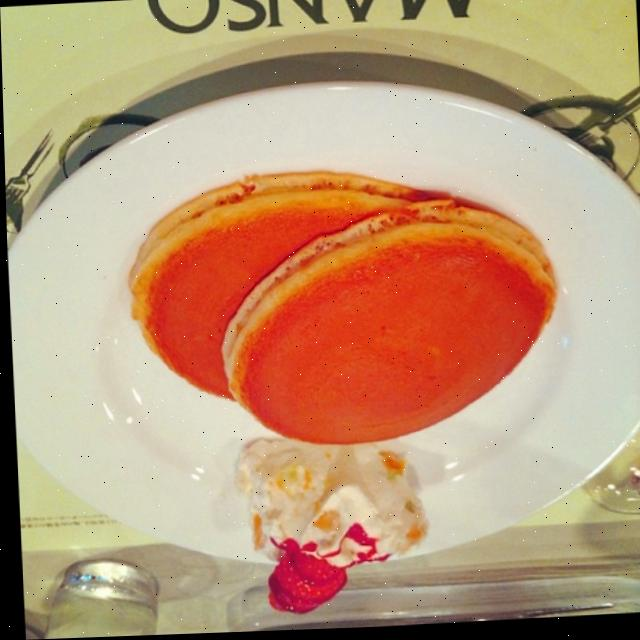汤锅炖物: (0, 0, 640, 610)
